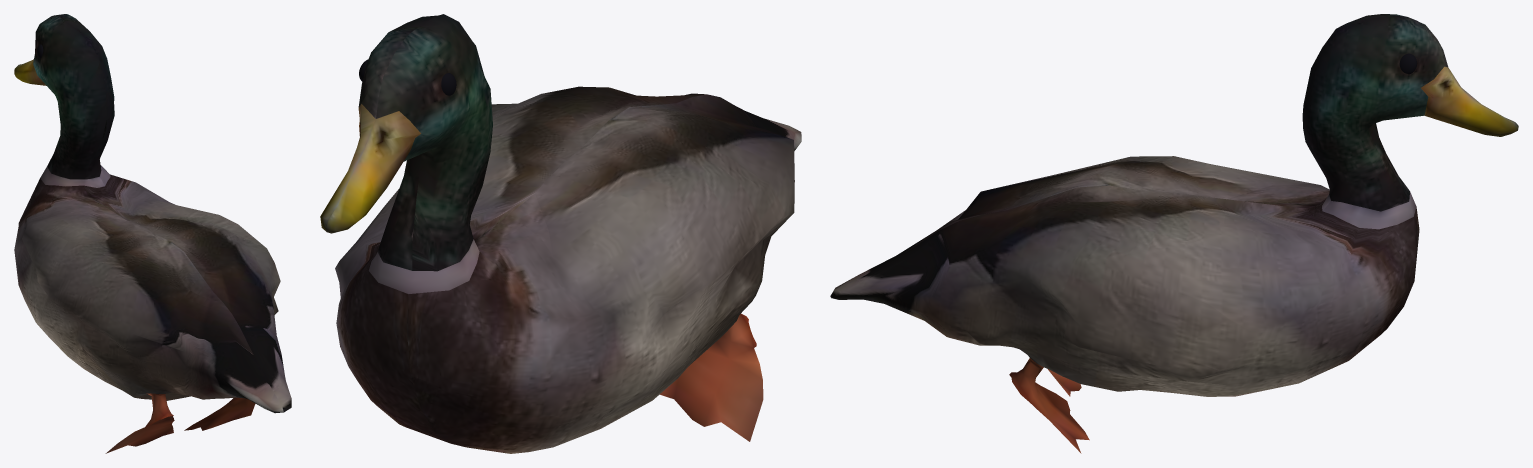
Rendered from player.glb.
The picture shows the model from 3 angles, left to right: view 1: azimuth 30°, elevation 25°; view 2: azimuth 150°, elevation 25°; view 3: azimuth 270°, elevation 25°; orthographic projection. The views are drawn at different scales.
Parts seen in each view (by area): view 1: Object_5; view 2: Object_5; view 3: Object_5.
Boxes of the visible parts, x1,y1,x2,y2 form: Object_5: (14,14,291,453); Object_5: (320,14,801,453); Object_5: (830,14,1518,453).
Bounding box in the file's own units: 1.43 × 2.29 × 3.51.
2 materials, 2 textured.
